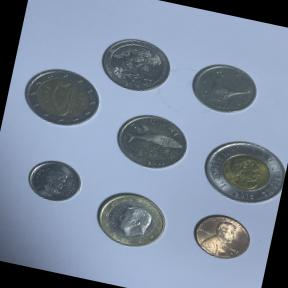1 Euro-B: (83, 183, 176, 259)
2 Euro-B: (16, 59, 106, 135)
Canada-10cent-B: (18, 152, 87, 210)
Canada-2Dollar-B: (190, 126, 288, 215)
Croatia-2Kune-B: (107, 103, 196, 180)
US-1cent-B: (182, 206, 258, 268)
US-25cent-B: (92, 28, 180, 100)
